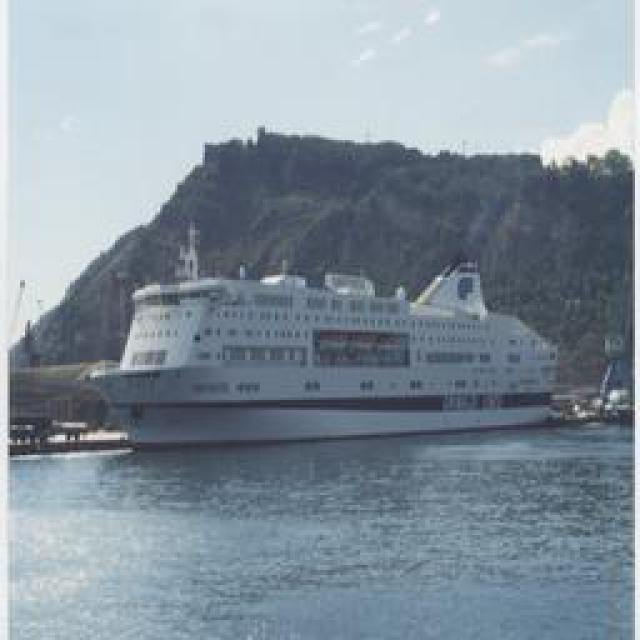Ship: (89, 258, 562, 446)
